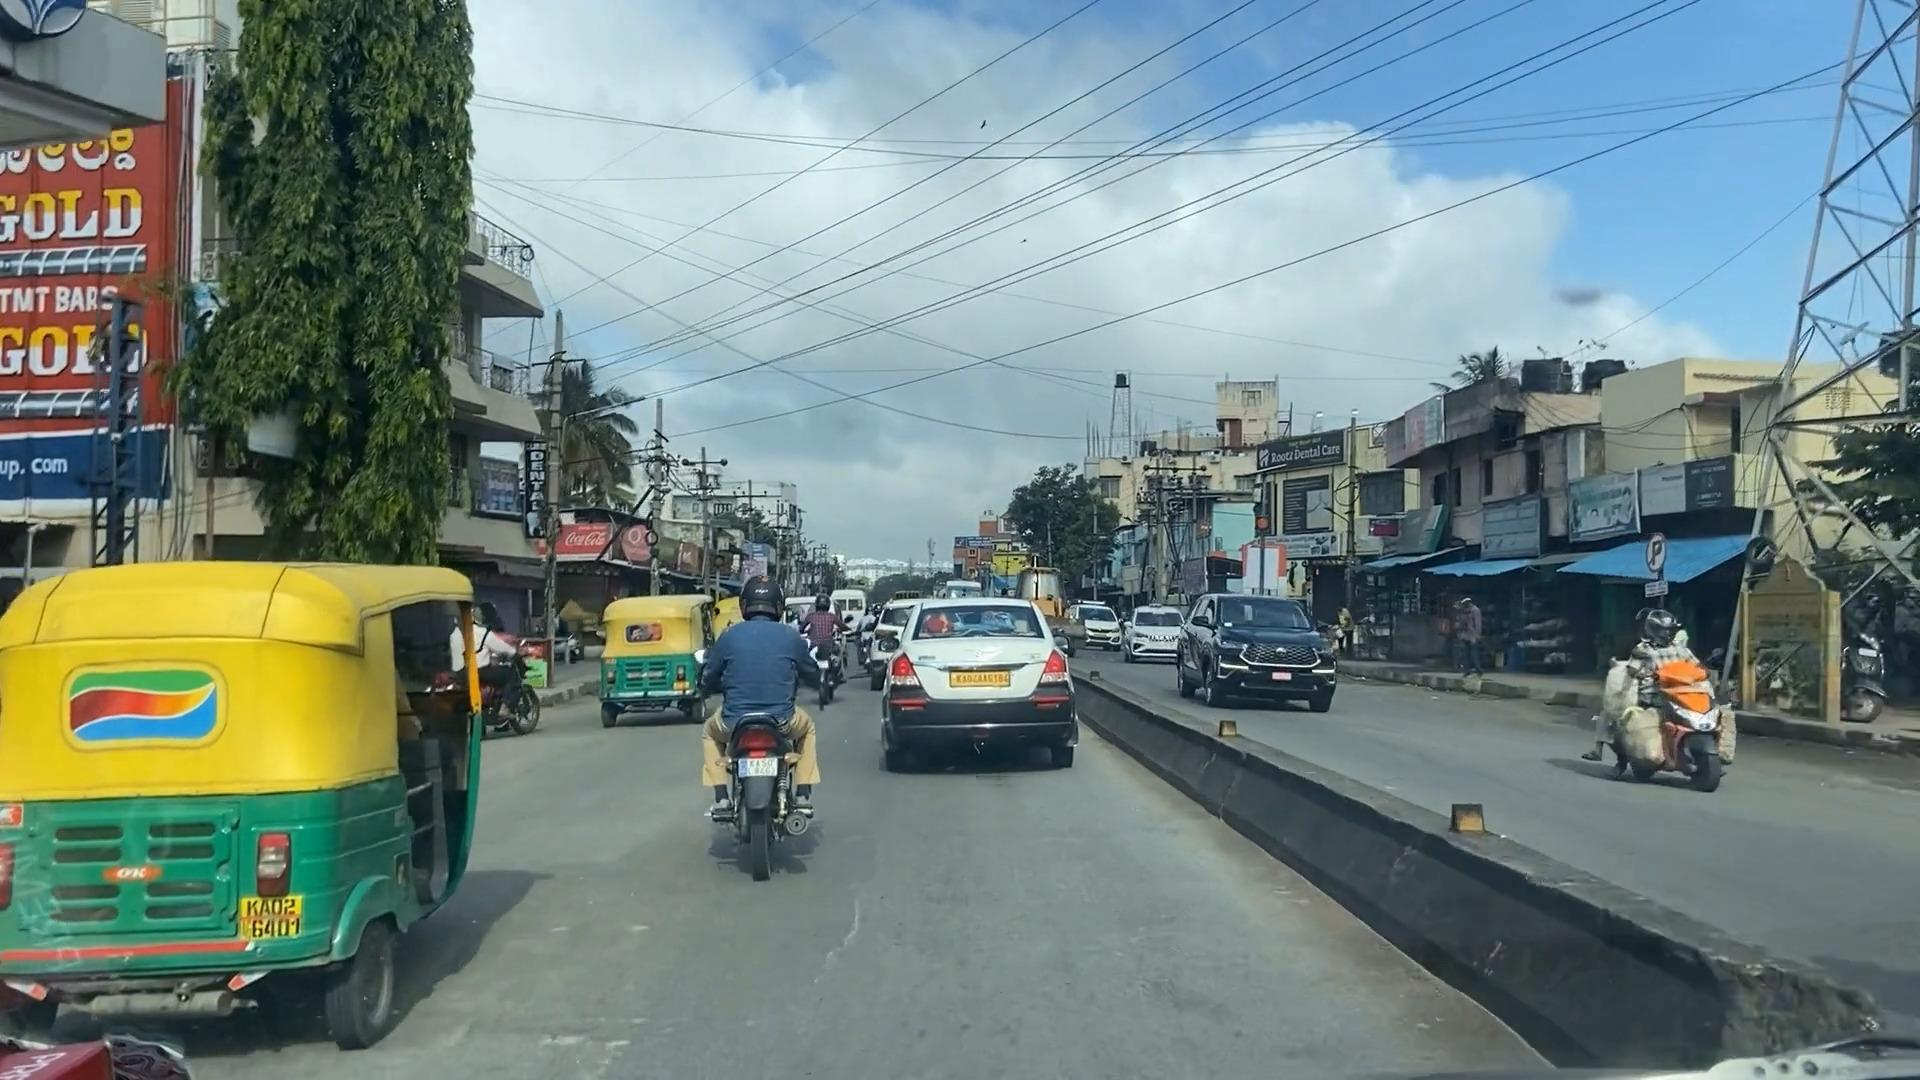LMV: (17, 578, 488, 1030), (881, 597, 1079, 781), (724, 562, 814, 881)
RoadDamages: (564, 898, 694, 1080), (831, 865, 903, 1027)
